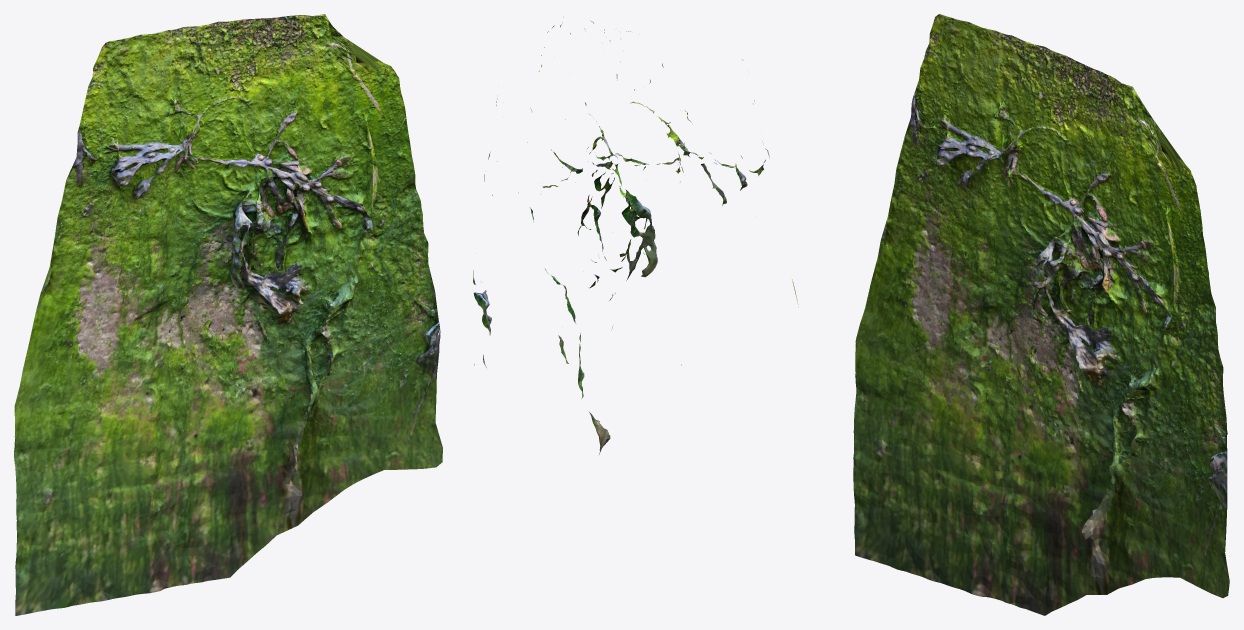
The picture shows the model from 3 angles, left to right: view 1: azimuth 30°, elevation 25°; view 2: azimuth 150°, elevation 25°; view 3: azimuth 330°, elevation 25°; orthographic projection. The views are drawn at different scales.
Bounding box in the file's own units: 0.4108 × 0.5498 × 0.0669.
1 material, 1 textured.
